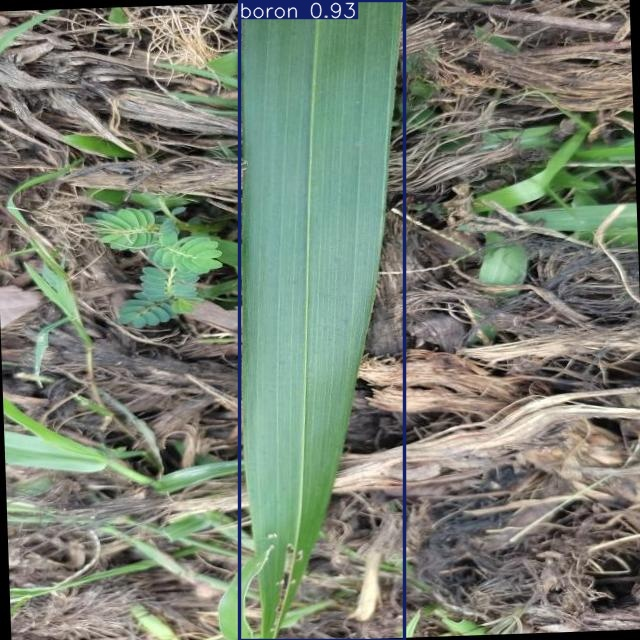nitrogen: (239, 1, 404, 640)
